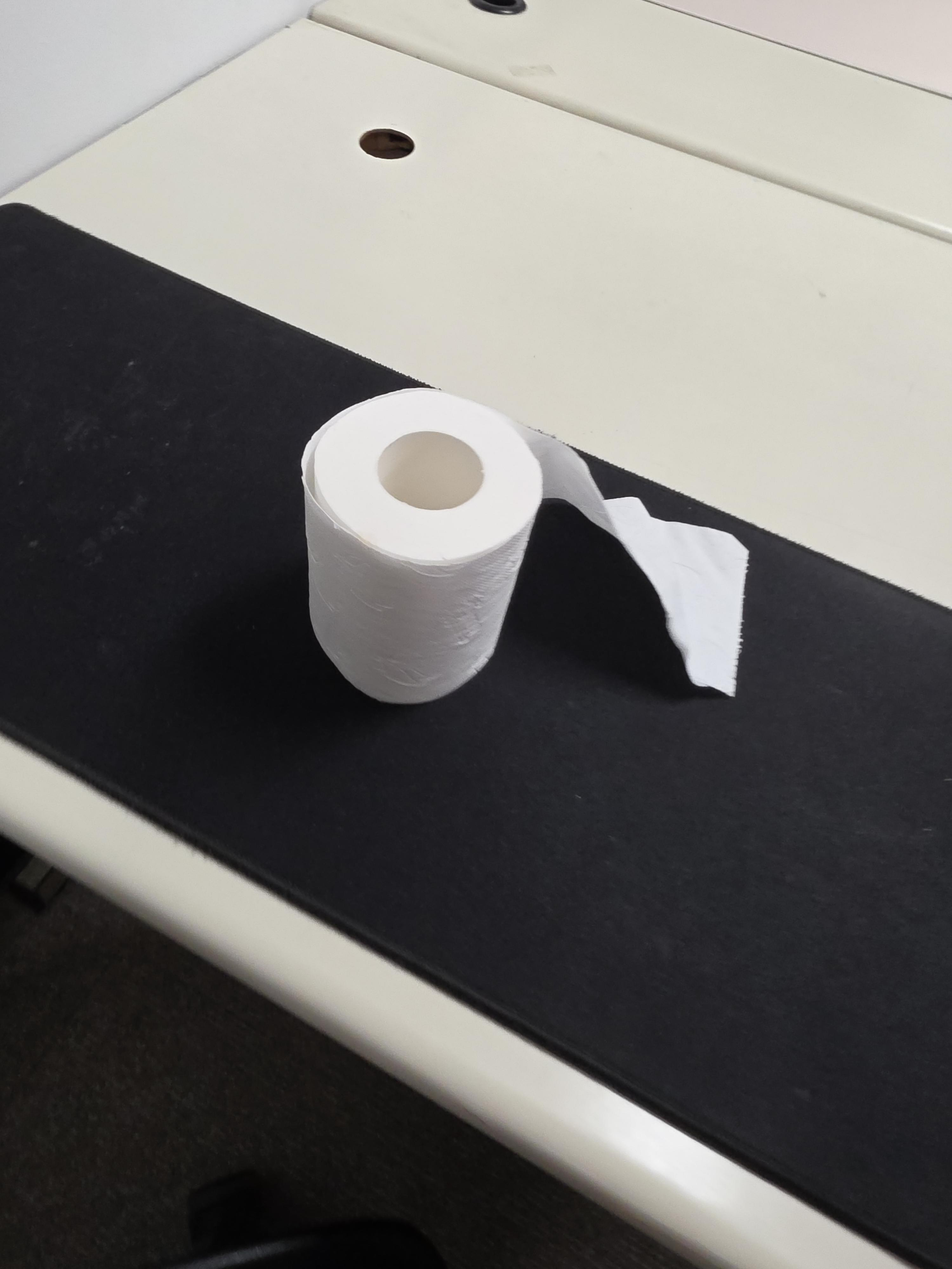tissue: (300, 387, 749, 706)
